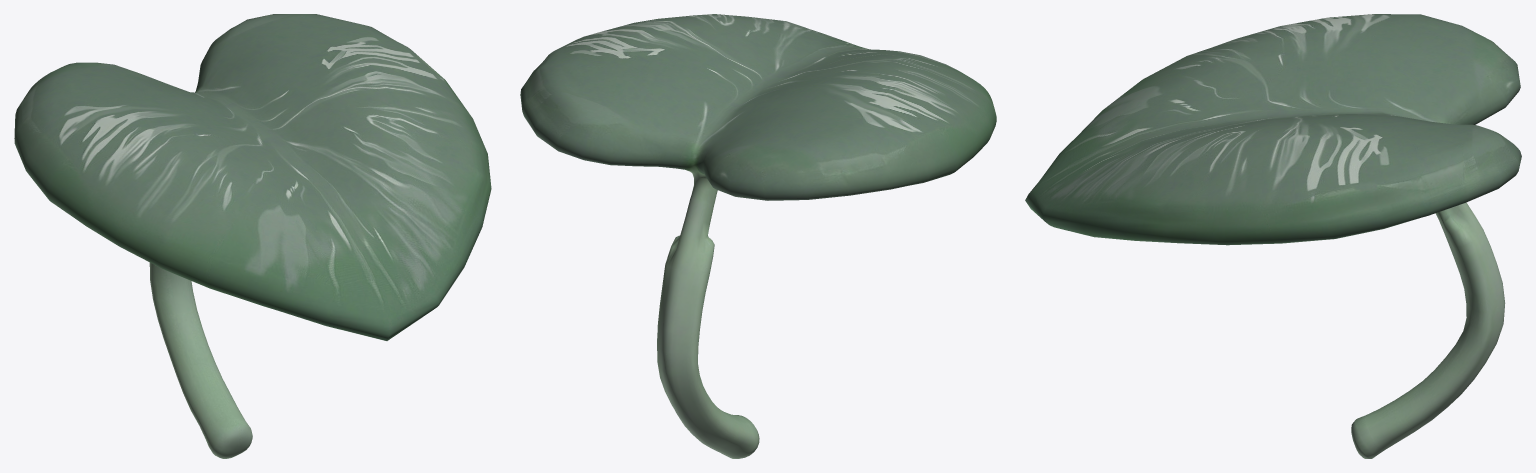
Rendered from heart_marble_2652.glb.
3 views of the same model, side by side, from view 1: azimuth 30°, elevation 25°; view 2: azimuth 150°, elevation 25°; view 3: azimuth 270°, elevation 25° (orthographic). The views are drawn at different scales.
Bounding box in the file's own units: 1.85 × 1.66 × 2.
Materials: 1 (1 with a texture image).
